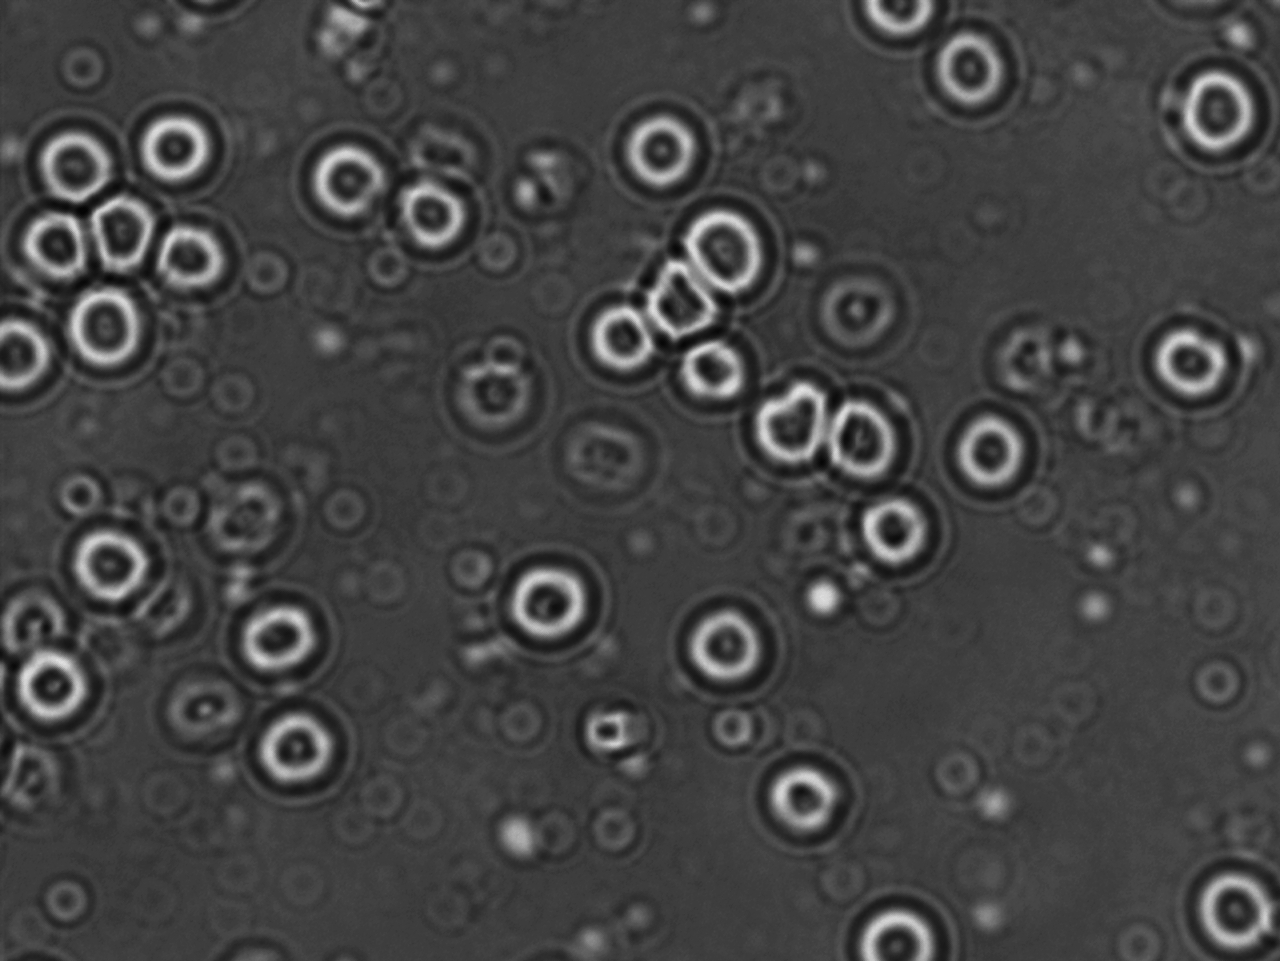depth:8: (671, 588, 786, 697), (753, 737, 865, 847), (43, 266, 153, 378), (1171, 59, 1280, 168), (499, 548, 608, 656), (247, 697, 361, 797), (672, 198, 780, 302), (657, 320, 767, 421), (1136, 305, 1240, 411), (295, 126, 401, 230), (937, 400, 1041, 505), (736, 358, 837, 465), (1178, 855, 1280, 960), (925, 13, 1026, 119), (221, 588, 326, 688), (122, 95, 228, 194), (573, 286, 673, 390), (853, 476, 952, 580), (383, 168, 483, 269), (607, 97, 712, 193), (27, 115, 125, 216), (61, 517, 157, 618), (11, 195, 109, 293), (6, 639, 108, 731), (823, 390, 918, 488), (147, 212, 238, 306), (841, 886, 955, 961), (80, 191, 168, 276), (640, 258, 721, 342)
